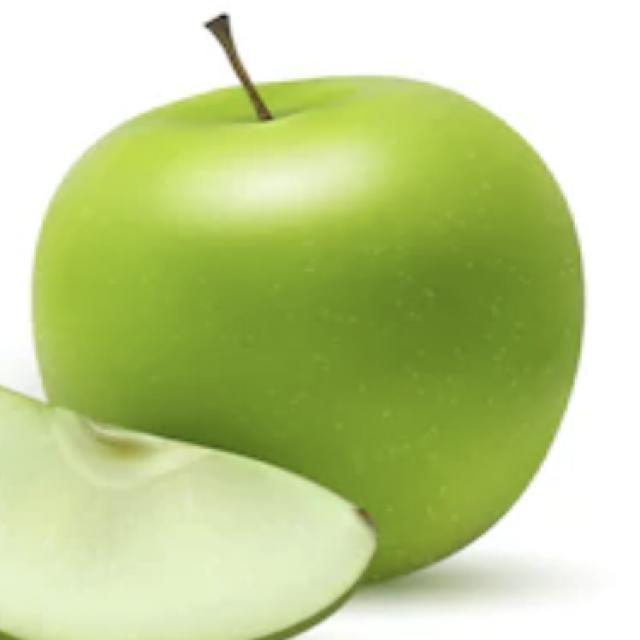Fresh Apple: (145, 83, 568, 455)
